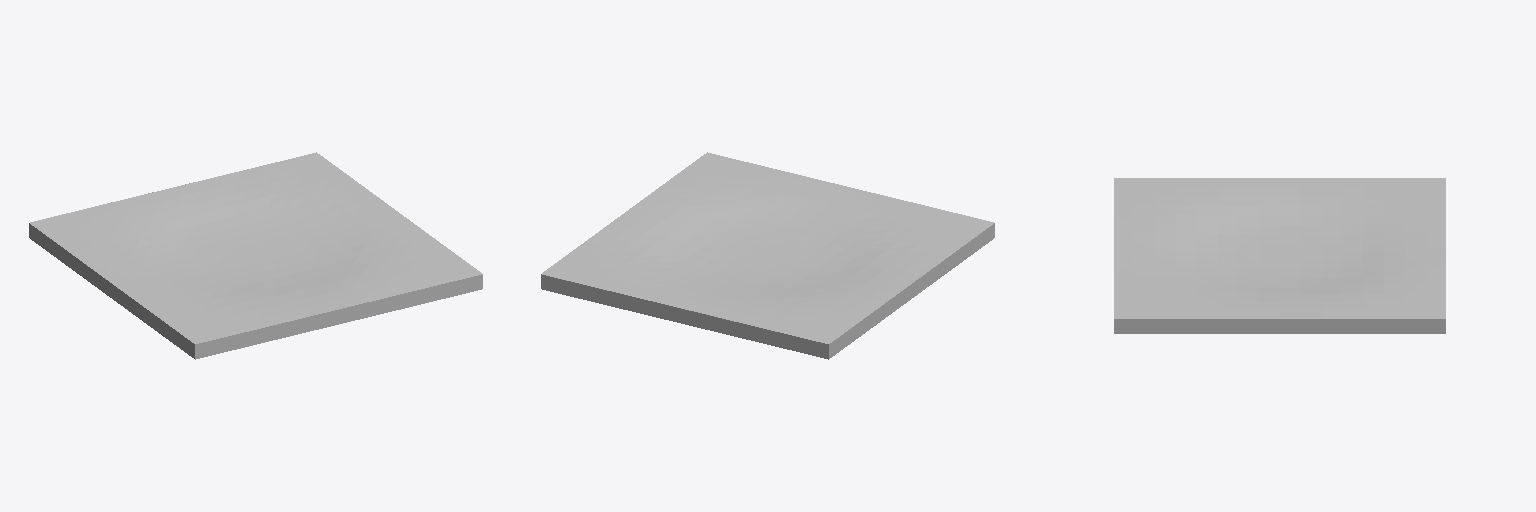
Rendered from platforms_concave.obj.
3 views of the same model, side by side, from view 1: azimuth 30°, elevation 25°; view 2: azimuth 150°, elevation 25°; view 3: azimuth 270°, elevation 25° (orthographic).
Visible parts, largest first — view 1: Concave_Cube.001; view 2: Concave_Cube.001; view 3: Concave_Cube.001.
Part boxes in pixels (bbox=[...]): Concave_Cube.001: bbox=[29, 152, 482, 359]; Concave_Cube.001: bbox=[541, 152, 994, 359]; Concave_Cube.001: bbox=[1114, 178, 1445, 333].
Bounding box in the file's own units: 40 × 2 × 40.